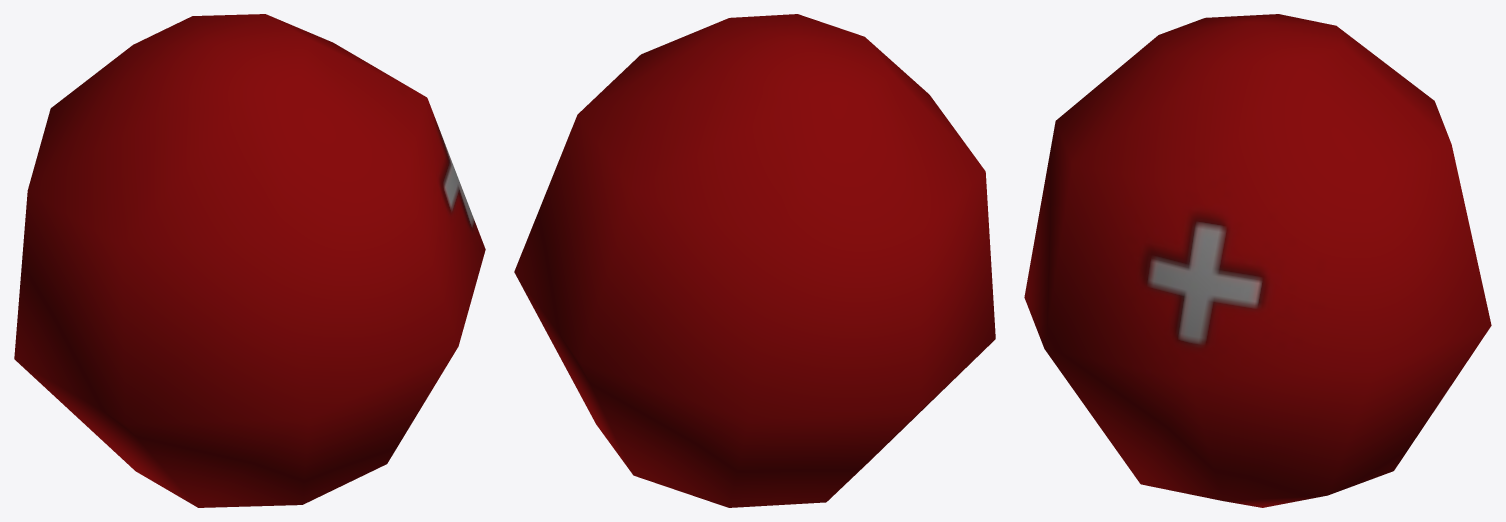
File: Plus_Proton.gltf
The picture shows the model from 3 angles, left to right: view 1: azimuth 30°, elevation 25°; view 2: azimuth 150°, elevation 25°; view 3: azimuth 270°, elevation 25°; orthographic projection.
Parts seen in each view (by area): view 1: Plus_Proton; view 2: Plus_Proton; view 3: Plus_Proton.
Part boxes in pixels (bbox=[...]): Plus_Proton: bbox=[14, 14, 485, 507]; Plus_Proton: bbox=[514, 14, 995, 507]; Plus_Proton: bbox=[1024, 14, 1491, 507].
Bounding box in the file's own units: 4.55 × 4.92 × 4.6.
Materials: 1 (1 with a texture image).
